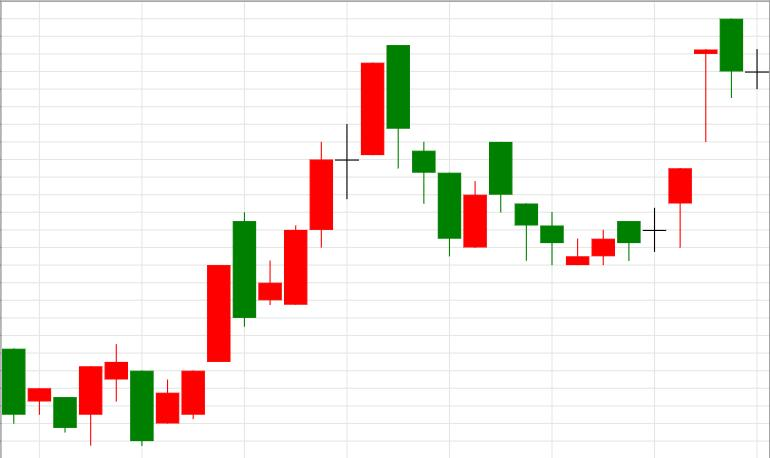bearish_engulfing_fall: (258, 46, 409, 306)
hanging_man_fall: (566, 168, 692, 266)
